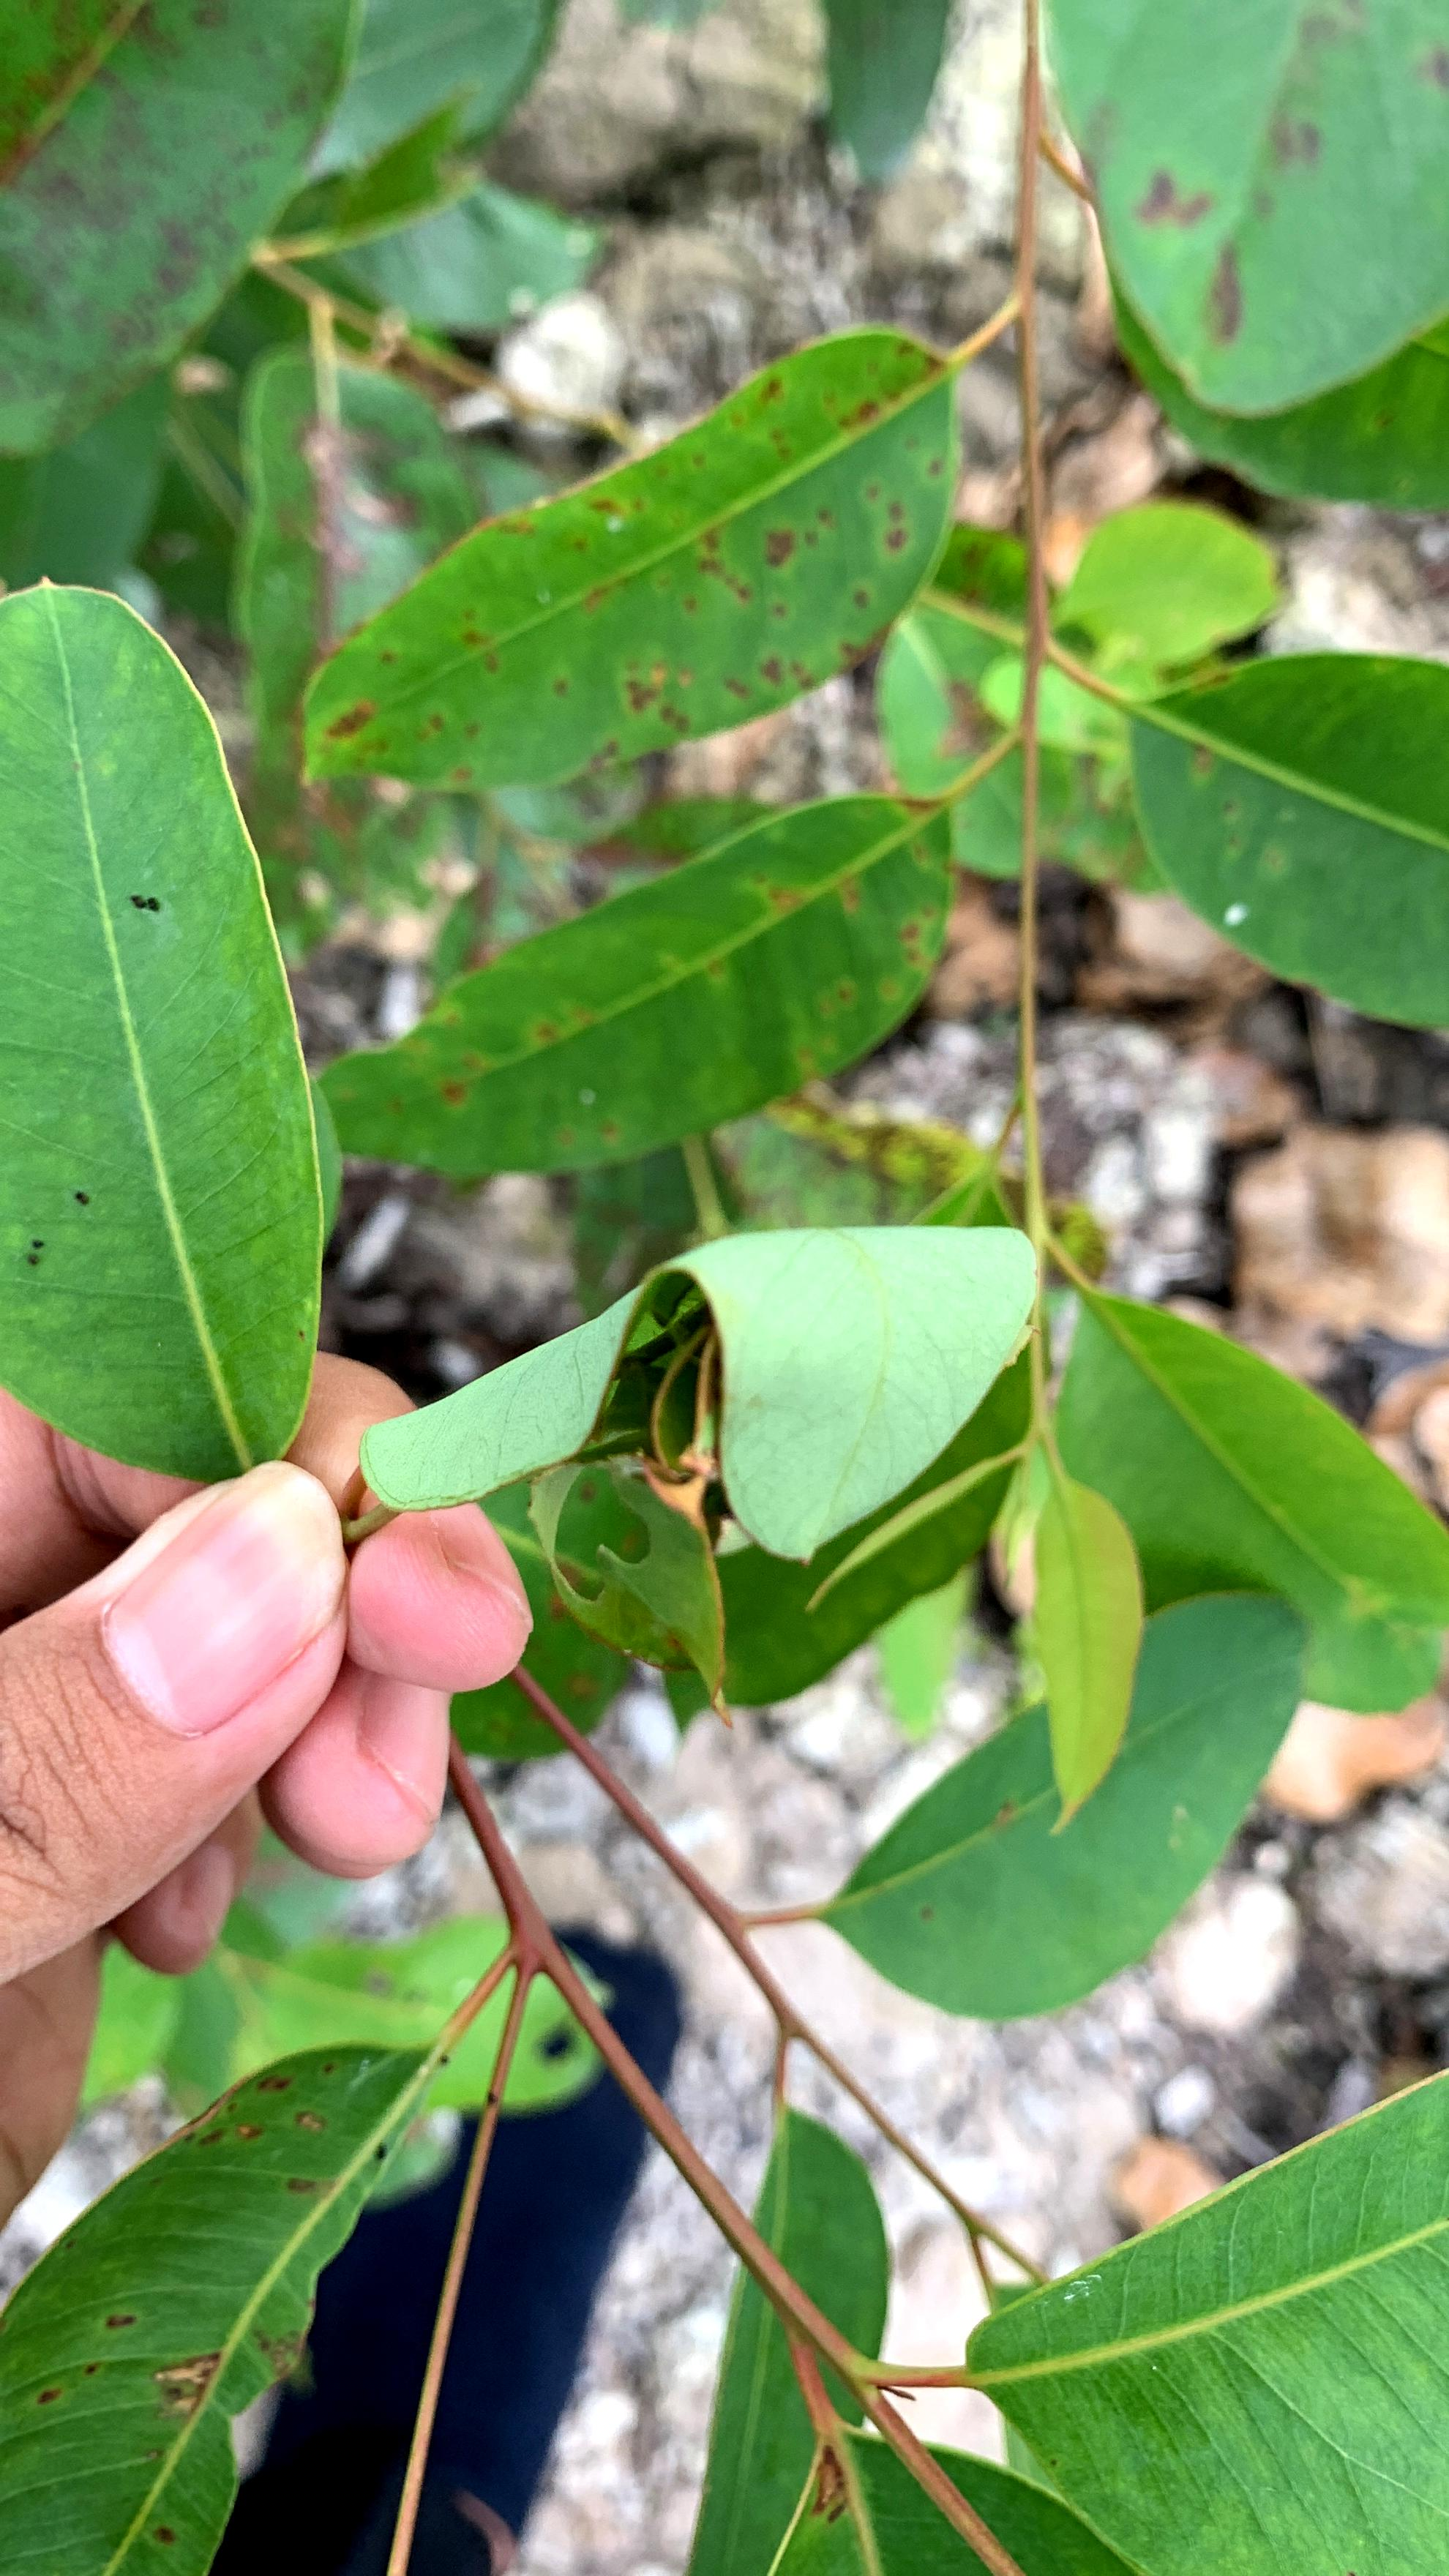Leaf Roller - Leaf: (306, 1129, 1136, 1741)
